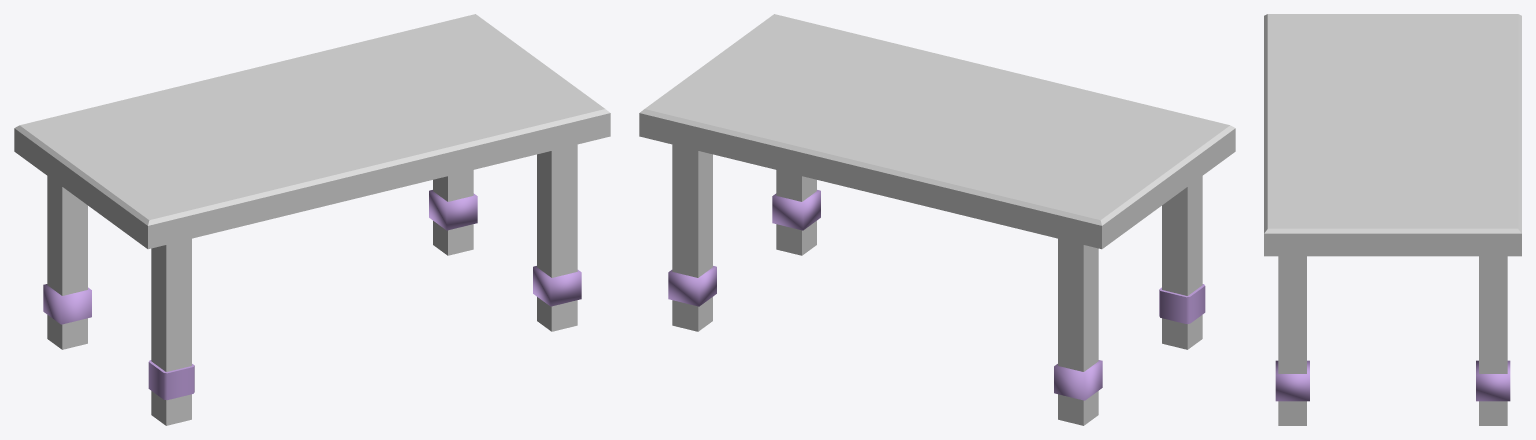
File: simple_table.glb
The picture shows the model from 3 angles, left to right: view 1: azimuth 30°, elevation 25°; view 2: azimuth 150°, elevation 25°; view 3: azimuth 270°, elevation 25°; orthographic projection. The views are drawn at different scales.
Parts seen in each view (by area): view 1: Cube.002; view 2: Cube.002; view 3: Cube.002.
Part boxes in pixels (x1,y1,x2,y2): Cube.002: (14, 14, 610, 425); Cube.002: (639, 14, 1235, 425); Cube.002: (1264, 14, 1521, 425).
Bounding box in the file's own units: 1.8 × 0.8 × 0.9.
